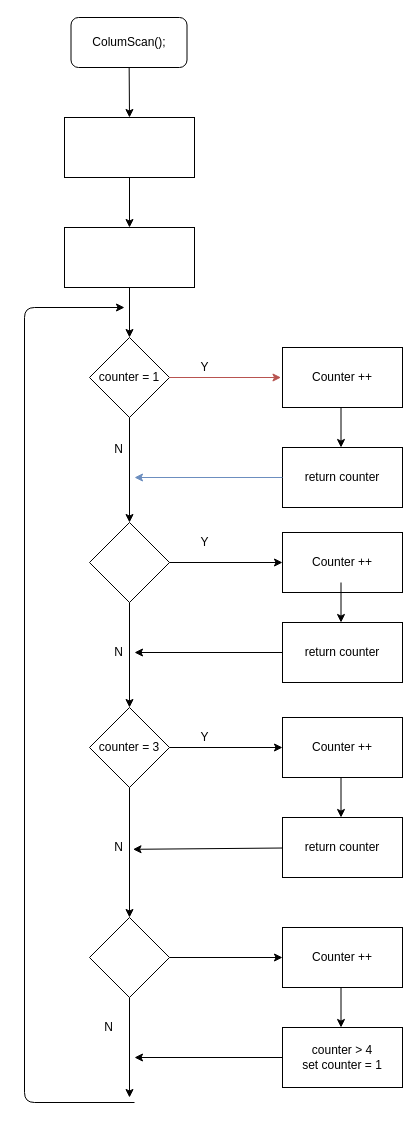
Image size: 420x1128. Some labels were removed from this diagram. Each missing label, with the centre of its shape:
"columcounter = 1" goes at point 129,257.
"counter = 2" goes at point 129,562.
"counter = 4" goes at point 129,957.
"set port til 1" goes at point 129,147.
